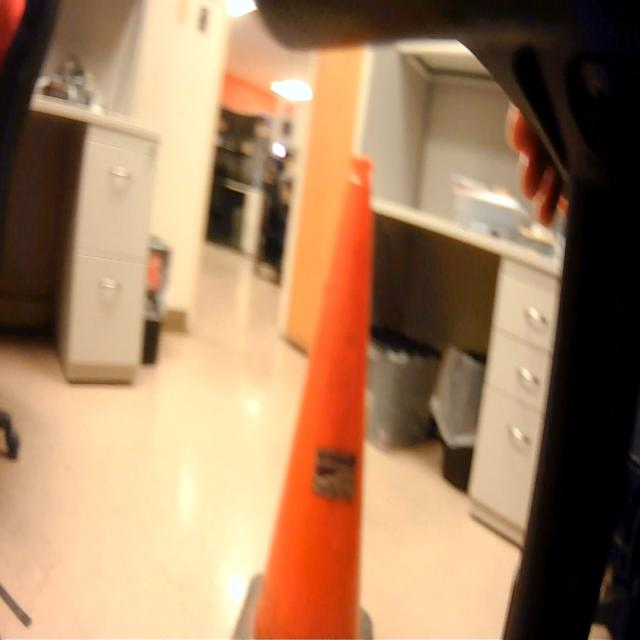traffic cone: (228, 139, 387, 640)
